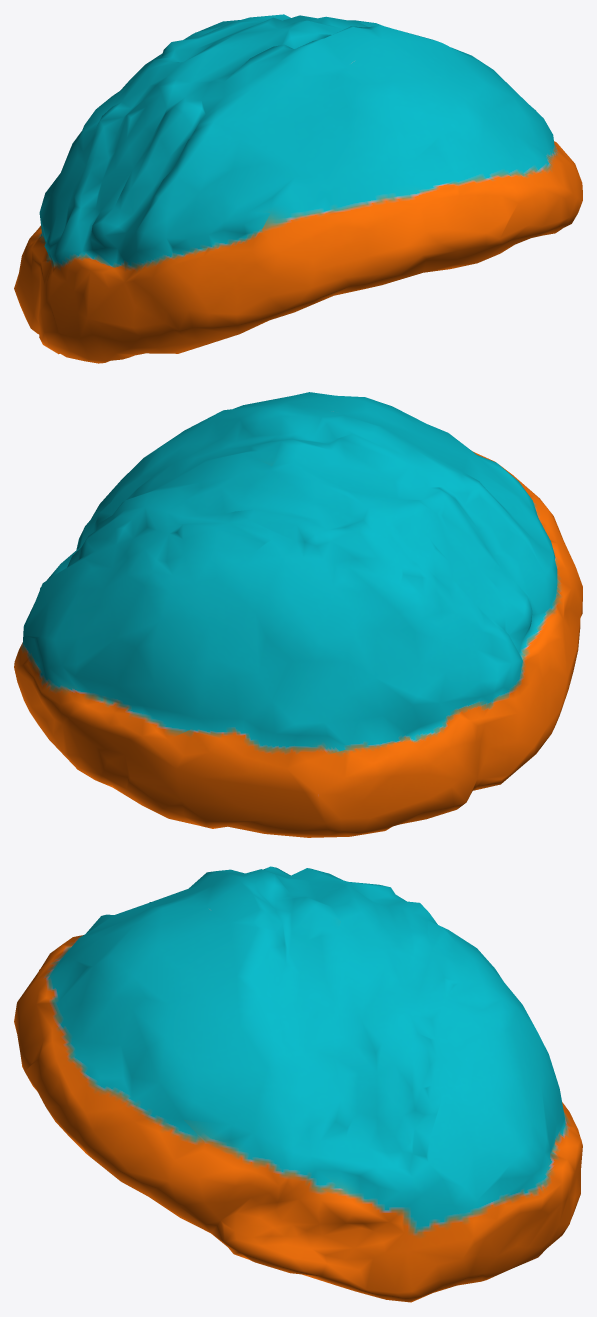
Rendered from knit miami.glb.
3 renders of one model, top to bottom at view 1: azimuth 30°, elevation 25°; view 2: azimuth 150°, elevation 25°; view 3: azimuth 270°, elevation 25°, orthographic. The views are drawn at different scales.
Parts seen in each view (by area): view 1: hat_knit_miami.001; view 2: hat_knit_miami.001; view 3: hat_knit_miami.001.
Part boxes in pixels (x1,y1,x2,y2): hat_knit_miami.001: [14, 14, 582, 363]; hat_knit_miami.001: [14, 392, 582, 837]; hat_knit_miami.001: [14, 866, 582, 1302].
Bounding box in the file's own units: 0.3695 × 0.2296 × 0.3545.
1 material, 1 textured.
